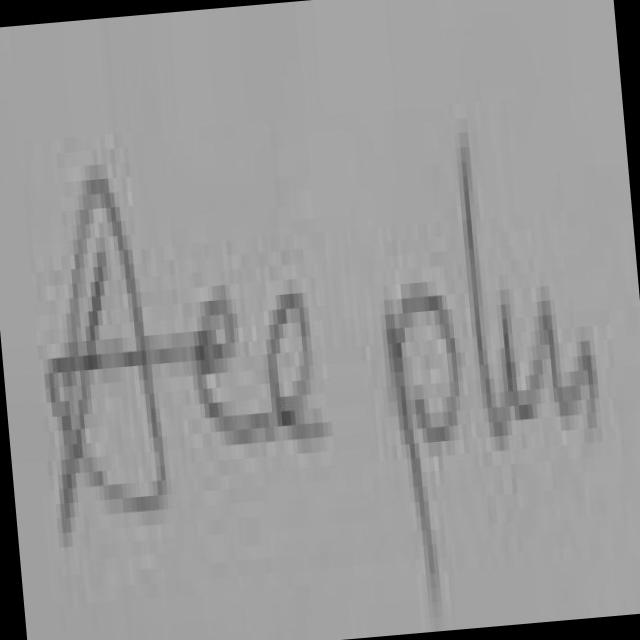A: (49, 178, 166, 525)
c: (195, 299, 274, 445)
e: (271, 293, 327, 439)
l: (463, 147, 511, 436)
p: (390, 295, 463, 602)
s: (562, 340, 599, 420)
u: (506, 300, 562, 412)
